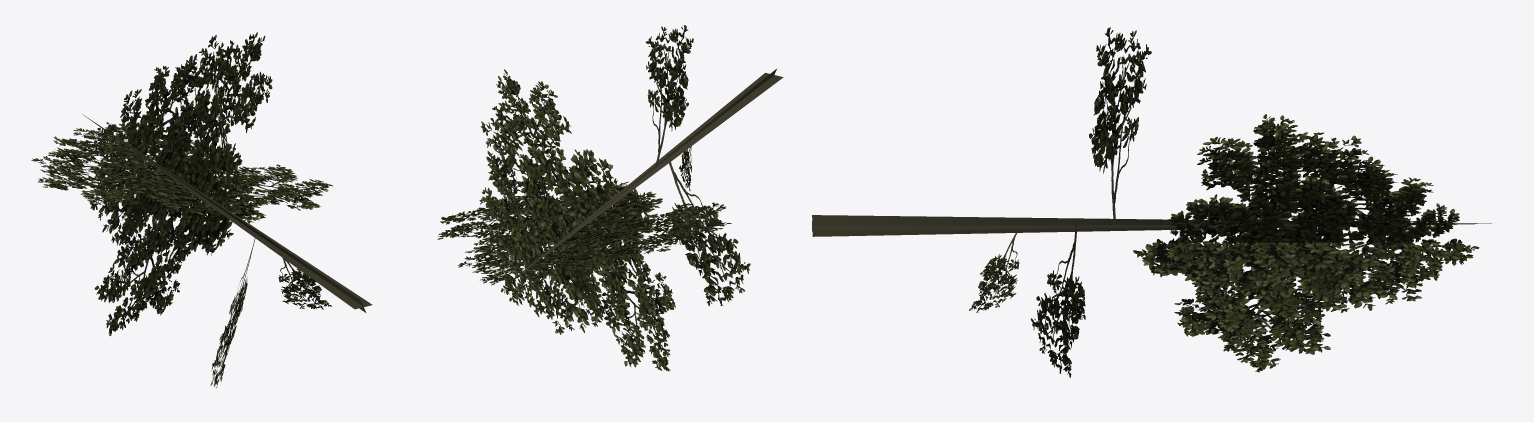
Rendered from Tree_02_i_LOD_02.fbx.
The picture shows the model from 3 angles, left to right: view 1: azimuth 30°, elevation 25°; view 2: azimuth 150°, elevation 25°; view 3: azimuth 270°, elevation 25°; orthographic projection. The views are drawn at different scales.
Parts seen in each view (by area): view 1: MEP_Leafs_02_i_LOD_02; view 2: MEP_Leafs_02_i_LOD_02; view 3: MEP_Leafs_02_i_LOD_02.
Boxes of the visible parts, x1,y1,x2,y2 form: MEP_Leafs_02_i_LOD_02: (31, 32, 372, 387); MEP_Leafs_02_i_LOD_02: (437, 25, 783, 371); MEP_Leafs_02_i_LOD_02: (812, 27, 1491, 377).
Size of the model in its own units: 23.96 by 23.68 by 35.64.
